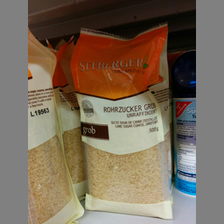tomato_sauce: (70, 21, 173, 221)
